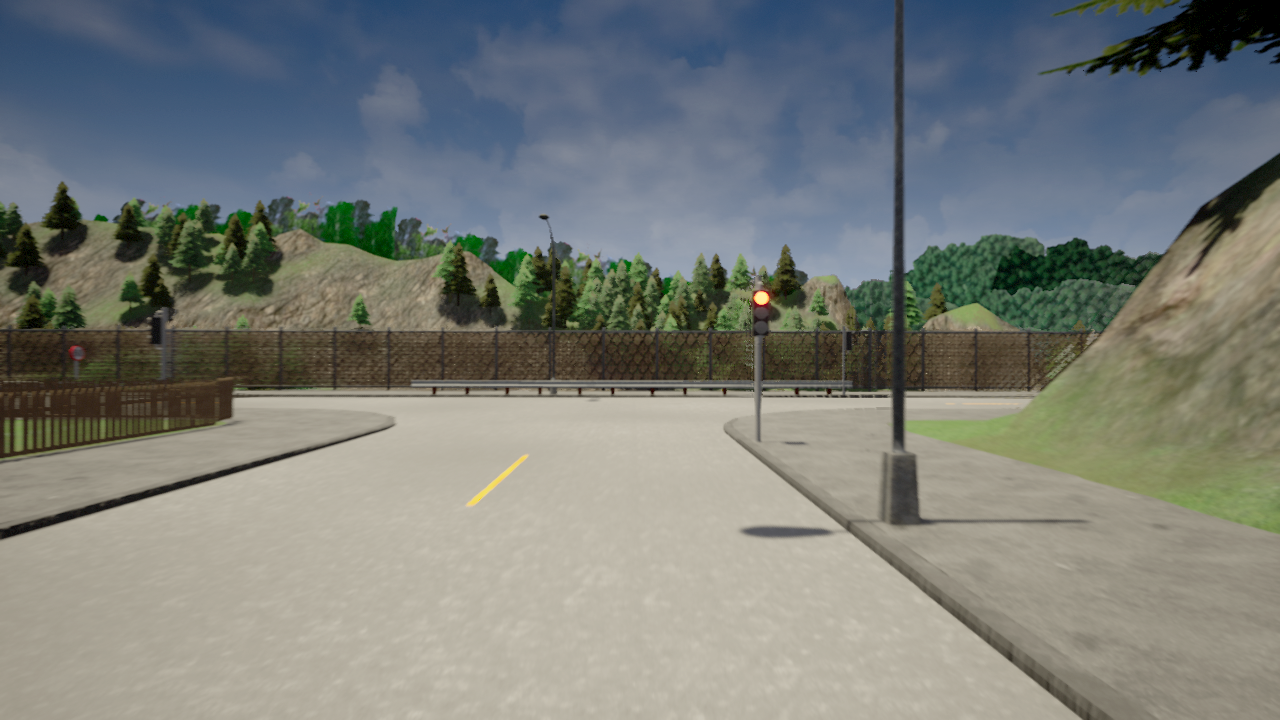red: (751, 289, 770, 335)
